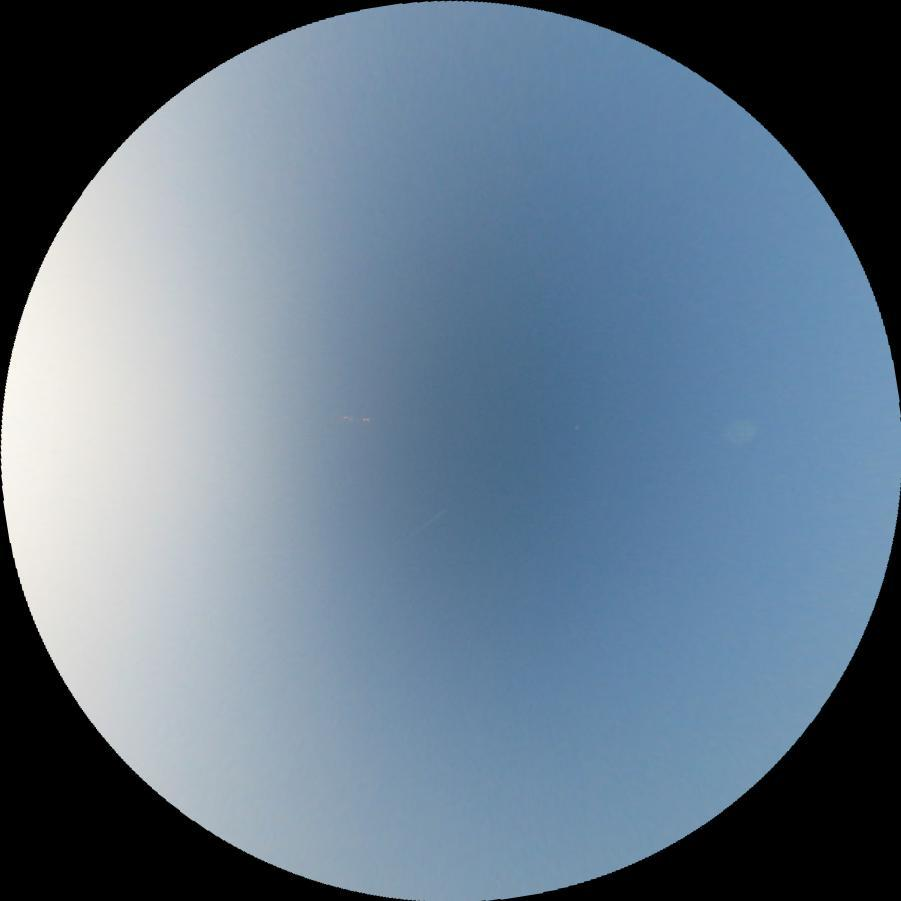contrail young: (403, 505, 445, 539)
